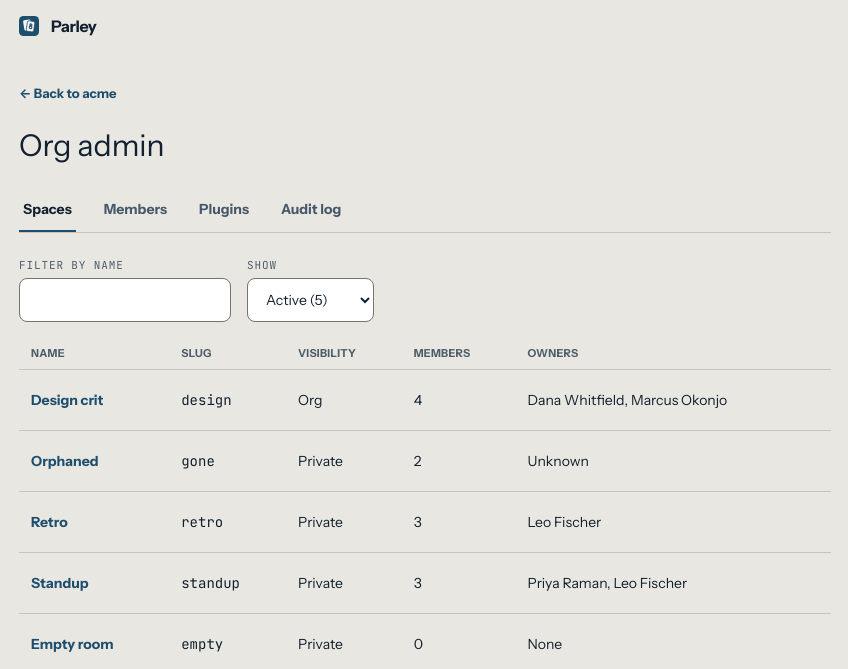
Test: org admin hub › filters spaces by name
The width and height of the screenshot is (848, 669).
Expected: the text "Design crit" is shown, [31,391,103,409]
Type "nothing" into the search field labelled "Filter by name" at [125, 300], box [19,278,231,322]
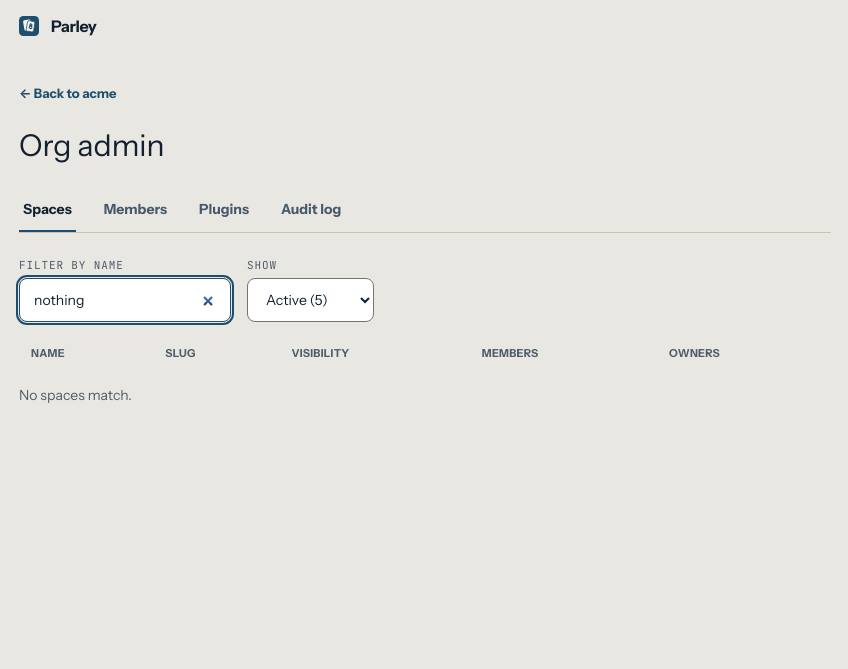
Result: the button "Design crit" is gone
